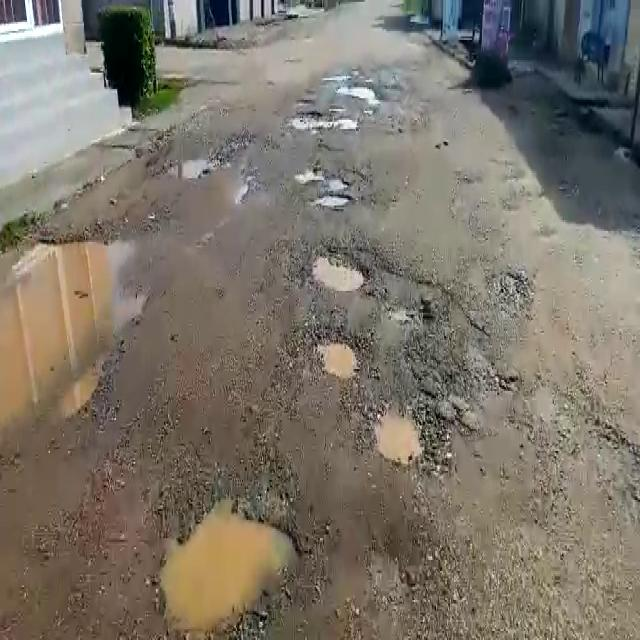Pothole: (156, 490, 308, 635), (372, 400, 438, 467), (309, 246, 368, 296), (315, 333, 361, 382), (164, 147, 213, 180), (287, 110, 337, 128), (312, 192, 352, 212)
